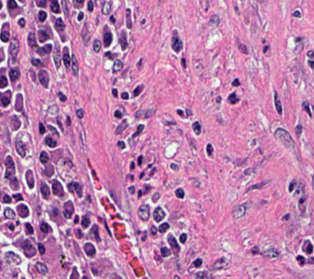nucleus: (22, 240, 35, 257), (15, 136, 26, 156), (171, 31, 181, 52), (5, 155, 14, 178), (167, 235, 179, 251), (247, 181, 266, 191), (62, 47, 71, 67), (5, 252, 20, 264), (52, 180, 63, 196), (138, 204, 149, 220), (9, 39, 18, 58), (38, 70, 48, 87), (63, 201, 73, 218), (53, 44, 60, 68), (115, 120, 127, 133), (233, 205, 245, 218), (274, 91, 281, 113), (153, 207, 164, 221), (212, 258, 226, 269), (261, 248, 278, 257), (103, 31, 112, 47), (25, 170, 33, 188), (91, 225, 100, 241), (17, 204, 28, 217), (84, 243, 95, 256), (40, 183, 49, 198), (132, 125, 143, 137), (36, 262, 47, 274), (9, 68, 19, 81), (120, 31, 127, 49), (72, 55, 78, 76), (45, 136, 56, 147), (38, 30, 48, 42), (1, 91, 9, 106), (73, 182, 81, 197), (15, 94, 22, 111), (113, 59, 122, 71), (39, 151, 48, 163), (28, 33, 36, 46), (228, 93, 238, 103), (4, 208, 14, 218), (82, 26, 88, 42), (93, 39, 100, 52), (0, 75, 7, 88), (193, 121, 200, 134), (133, 85, 142, 95), (44, 165, 53, 175), (175, 188, 184, 198), (1, 30, 9, 41), (81, 216, 89, 227), (48, 125, 57, 134), (40, 223, 49, 232), (159, 223, 168, 232), (161, 247, 170, 256), (70, 268, 78, 278), (31, 59, 42, 66), (239, 44, 247, 53), (58, 92, 66, 101), (25, 223, 32, 233), (206, 144, 212, 155), (3, 194, 11, 202), (193, 258, 201, 266), (144, 110, 153, 117), (39, 123, 45, 133), (38, 244, 44, 254), (44, 44, 51, 52), (37, 47, 45, 54), (76, 109, 83, 117), (152, 193, 159, 201), (180, 233, 186, 242), (121, 92, 128, 99), (114, 111, 121, 118), (117, 141, 124, 148), (105, 52, 113, 58), (137, 156, 142, 165), (232, 79, 239, 85), (151, 226, 156, 234), (0, 48, 3, 60), (181, 58, 185, 67), (171, 163, 177, 169), (112, 89, 117, 96), (129, 186, 134, 193), (14, 194, 21, 199), (77, 229, 81, 237), (252, 247, 257, 253), (177, 110, 182, 115), (8, 224, 13, 229), (216, 96, 220, 102), (67, 116, 70, 124), (138, 190, 141, 197), (74, 216, 77, 222)
